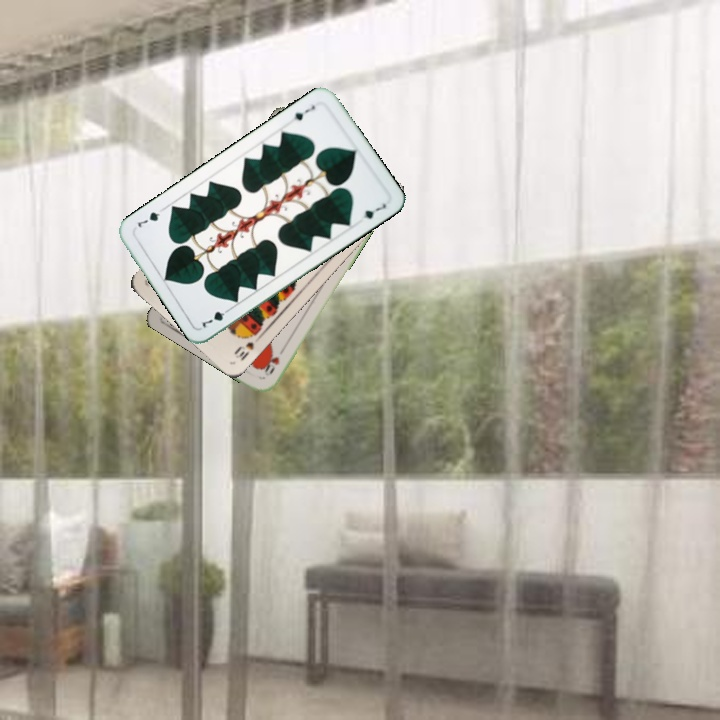G7: (198, 303, 234, 330), (286, 101, 318, 124)
HO: (259, 343, 287, 377)
S10: (230, 331, 264, 363)
